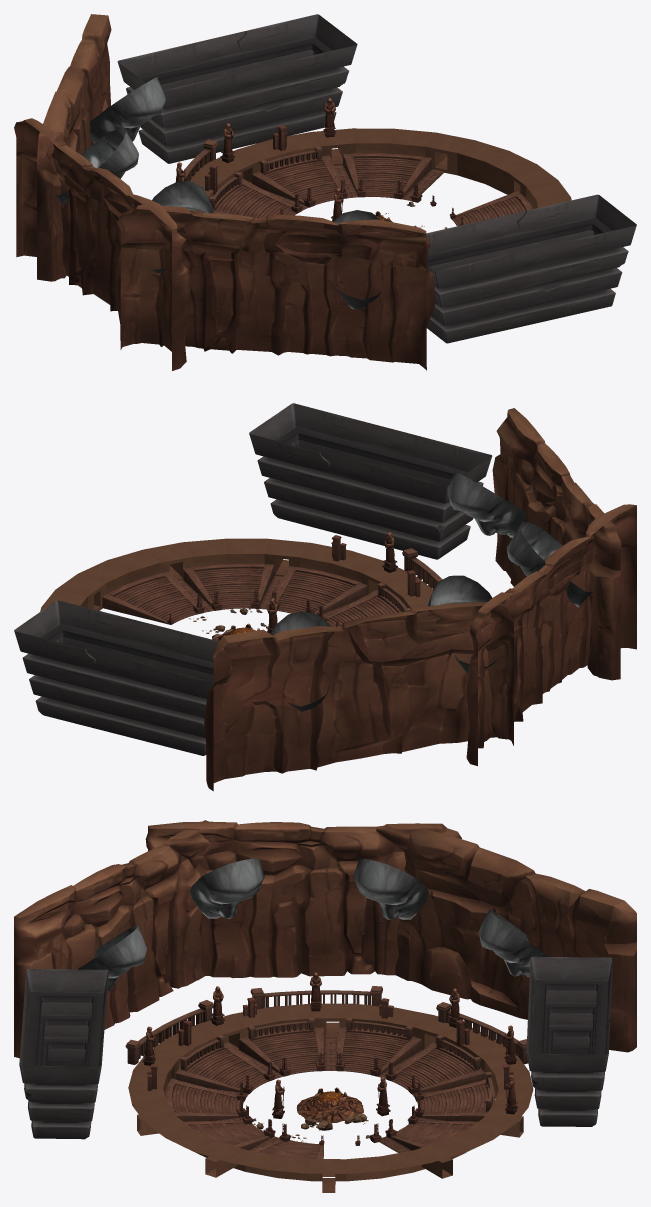
File: env_ruus_valley_jedi_01_pre.glb
3 renders of one model, top to bottom at view 1: azimuth 30°, elevation 25°; view 2: azimuth 150°, elevation 25°; view 3: azimuth 270°, elevation 25°, orthographic. The views are drawn at different scales.
Visible parts, largest first — view 1: geo_rockwall_01a_mesh, kor_wall_01_mesh (2), kor_wall_01_mesh (1), geo_rockwall_01a_mesh (1), ruus_outer_ring_01_mesh, geo_rockwall_01b_mesh, ruus_riser_01_mesh 2, ruus_riser_01_mesh, ruus_face_statue_01_mesh (2), ruus_riser_01_mesh 1, ruus_face_statue_01_mesh (1), ruus_face_statue_01_mesh (+4 smaller); view 2: geo_rockwall_01b_mesh, kor_wall_01_mesh (1), kor_wall_01_mesh (2), geo_rockwall_01a_mesh (1), geo_rockwall_01a_mesh, ruus_outer_ring_01_mesh, ruus_riser_01_mesh 4, ruus_riser_01_mesh 5, ruus_riser_01_mesh 6, ruus_face_statue_01_mesh (7), ruus_face_statue_01_mesh, ruus_face_statue_01_mesh (1) (+3 smaller); view 3: geo_rockwall_01a_mesh (1), geo_rockwall_01b_mesh, geo_rockwall_01a_mesh, ruus_outer_ring_01_mesh, kor_wall_01_mesh (1), kor_wall_01_mesh (2), ruus_face_statue_01_mesh, ruus_face_statue_01_mesh (1), ruus_riser_01_mesh 8, ruus_riser_01_mesh 9, ruus_riser_01_mesh 7, ruus_riser_01_mesh 1 (+13 smaller).
Boxes of the visible parts, x1=… form: geo_rockwall_01a_mesh: x1=115, y1=205, x2=435, y2=370; kor_wall_01_mesh (2): x1=117, y1=14, x2=357, y2=163; kor_wall_01_mesh (1): x1=426, y1=194, x2=636, y2=343; geo_rockwall_01a_mesh (1): x1=14, y1=118, x2=191, y2=370; ruus_outer_ring_01_mesh: x1=189, y1=128, x2=571, y2=208; geo_rockwall_01b_mesh: x1=37, y1=14, x2=111, y2=281; ruus_riser_01_mesh 2: x1=343, y1=153, x2=431, y2=198; ruus_riser_01_mesh: x1=252, y1=155, x2=340, y2=205; ruus_face_statue_01_mesh (2): x1=90, y1=77, x2=165, y2=143; ruus_riser_01_mesh 1: x1=213, y1=179, x2=297, y2=218; ruus_face_statue_01_mesh (1): x1=55, y1=128, x2=138, y2=204; ruus_face_statue_01_mesh: x1=148, y1=181, x2=213, y2=272; geo_rockwall_01b_mesh: x1=204, y1=602, x2=517, y2=791; kor_wall_01_mesh (1): x1=249, y1=403, x2=492, y2=559; kor_wall_01_mesh (2): x1=14, y1=600, x2=219, y2=755; geo_rockwall_01a_mesh (1): x1=466, y1=504, x2=636, y2=765; geo_rockwall_01a_mesh: x1=492, y1=408, x2=621, y2=680; ruus_outer_ring_01_mesh: x1=40, y1=538, x2=433, y2=611; ruus_riser_01_mesh 4: x1=102, y1=571, x2=197, y2=624; ruus_riser_01_mesh 5: x1=183, y1=563, x2=274, y2=609; ruus_riser_01_mesh 6: x1=276, y1=566, x2=367, y2=614; ruus_face_statue_01_mesh (7): x1=447, y1=470, x2=526, y2=537; ruus_face_statue_01_mesh: x1=506, y1=521, x2=593, y2=607; ruus_face_statue_01_mesh (1): x1=427, y1=575, x2=496, y2=672; geo_rockwall_01a_mesh (1): x1=145, y1=821, x2=461, y2=978; geo_rockwall_01b_mesh: x1=395, y1=829, x2=636, y2=1052; geo_rockwall_01a_mesh: x1=14, y1=820, x2=210, y2=1058; ruus_outer_ring_01_mesh: x1=128, y1=1003, x2=533, y2=1192; kor_wall_01_mesh (1): x1=19, y1=969, x2=108, y2=1139; kor_wall_01_mesh (2): x1=526, y1=957, x2=612, y2=1126; ruus_face_statue_01_mesh: x1=189, y1=858, x2=264, y2=918; ruus_face_statue_01_mesh (1): x1=353, y1=858, x2=429, y2=919; ruus_riser_01_mesh 8: x1=239, y1=1027, x2=323, y2=1074; ruus_riser_01_mesh 9: x1=337, y1=1027, x2=421, y2=1074; ruus_riser_01_mesh 7: x1=175, y1=1042, x2=268, y2=1092; ruus_riser_01_mesh 1: x1=392, y1=1042, x2=485, y2=1092.
Size of the model in its own units: 117 by 35.87 by 130.
Materials: 16 (16 with a texture image).
